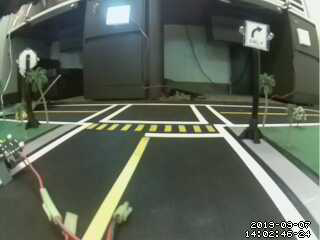Right_only_sign: (241, 15, 272, 55)
